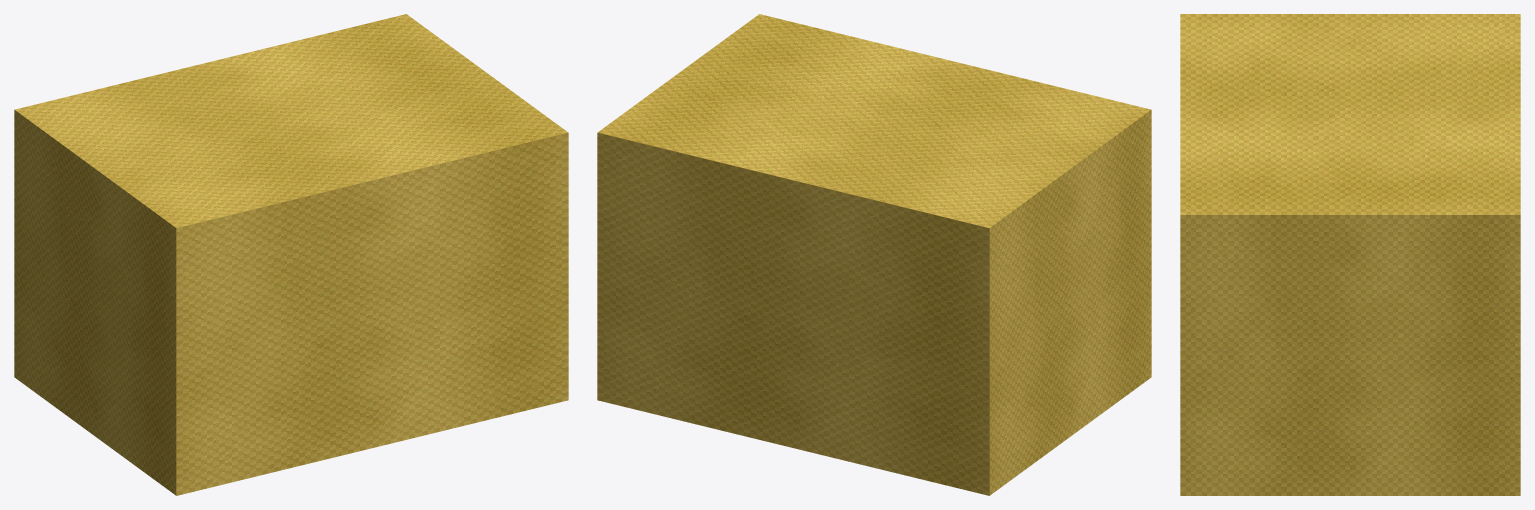
File: feno.glb
3 renders of one model, left to right at view 1: azimuth 30°, elevation 25°; view 2: azimuth 150°, elevation 25°; view 3: azimuth 270°, elevation 25°, orthographic. The views are drawn at different scales.
Parts seen in each view (by area): view 1: feno; view 2: feno; view 3: feno.
Part boxes in pixels (x1,y1,x2,y2): feno: (14,14,568,495); feno: (597,14,1151,495); feno: (1180,14,1520,495).
Bounding box in the file's own units: 0.95 × 0.62 × 0.68.
Materials: 1 (1 with a texture image).
